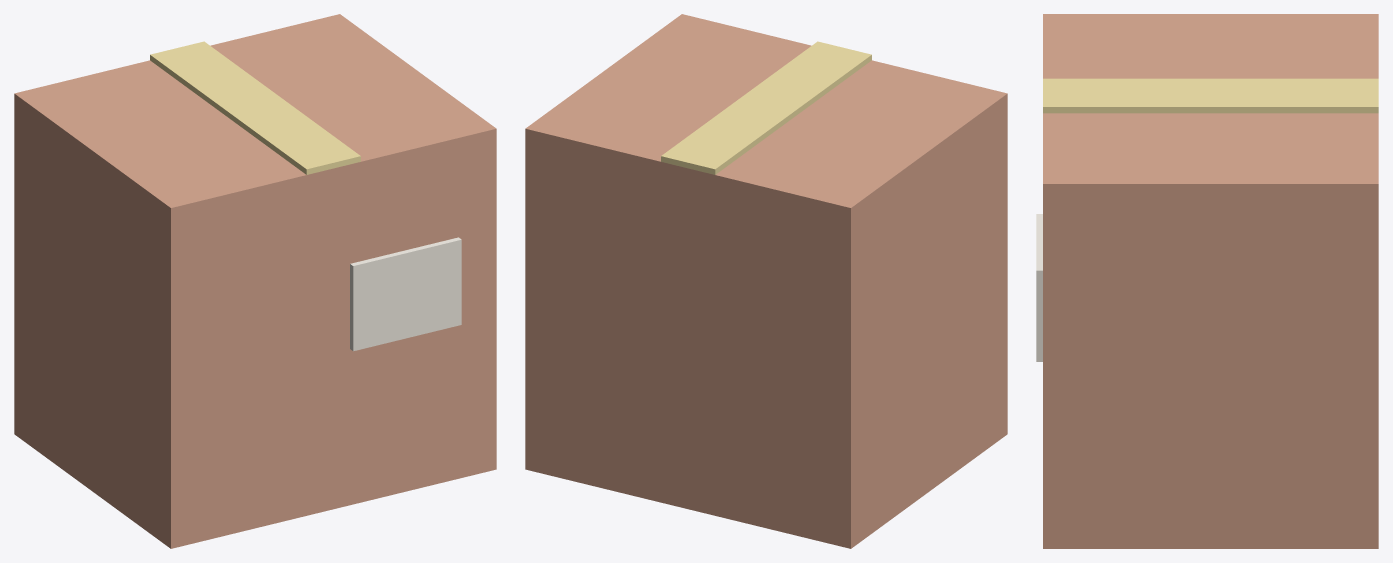
The model's file is cardboard_box.glb.
3 views of the same model, side by side, from view 1: azimuth 30°, elevation 25°; view 2: azimuth 150°, elevation 25°; view 3: azimuth 270°, elevation 25° (orthographic). The views are drawn at different scales.
Visible parts, largest first — view 1: cardboard_box_000, cardboard_box_002, cardboard_box_001; view 2: cardboard_box_000, cardboard_box_001; view 3: cardboard_box_000, cardboard_box_001, cardboard_box_002.
Part boxes in pixels (left/top/right/bottom): cardboard_box_000: left=14, top=14, right=496, bottom=548; cardboard_box_002: left=350, top=237, right=461, bottom=351; cardboard_box_001: left=150, top=41, right=360, bottom=174; cardboard_box_000: left=525, top=14, right=1007, bottom=548; cardboard_box_001: left=661, top=41, right=871, bottom=174; cardboard_box_000: left=1043, top=14, right=1378, bottom=548; cardboard_box_001: left=1043, top=78, right=1378, bottom=113; cardboard_box_002: left=1036, top=214, right=1042, bottom=361.
Size of the model in its own units: 0.6 by 0.61 by 0.51.
